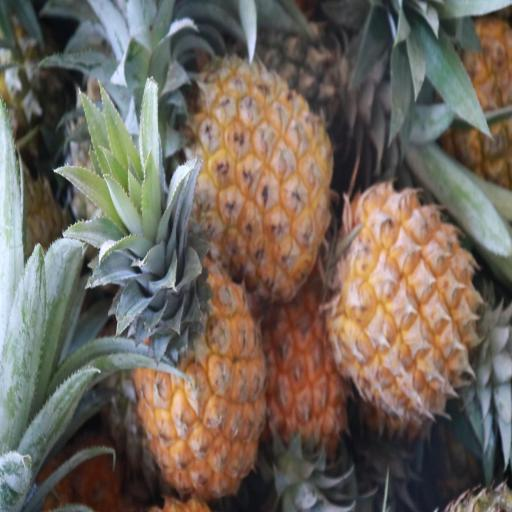Pineapple - v8 v1: (134, 210, 266, 496), (190, 44, 336, 296), (331, 174, 480, 420), (266, 294, 350, 505)
